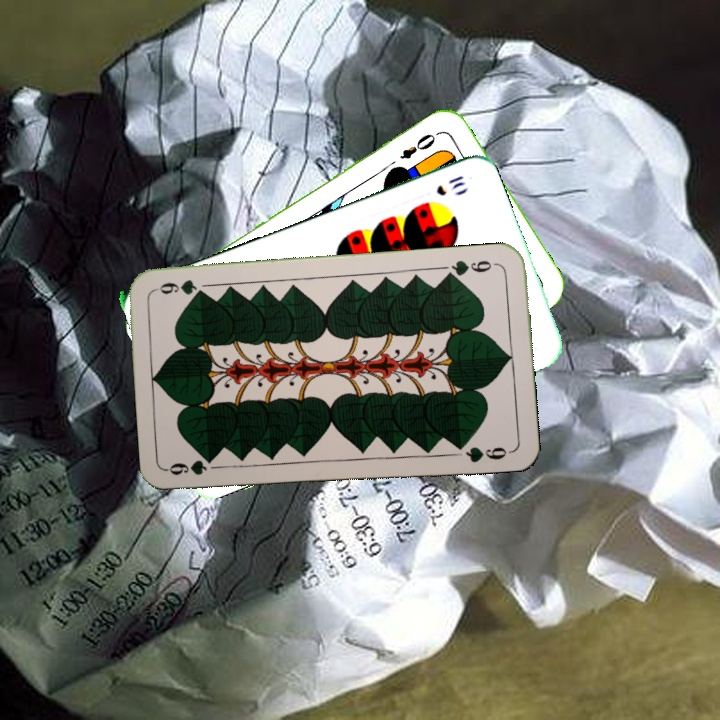EO: (395, 127, 443, 162)
G9: (442, 256, 500, 280), (165, 457, 224, 478)
S10: (432, 171, 468, 199)
